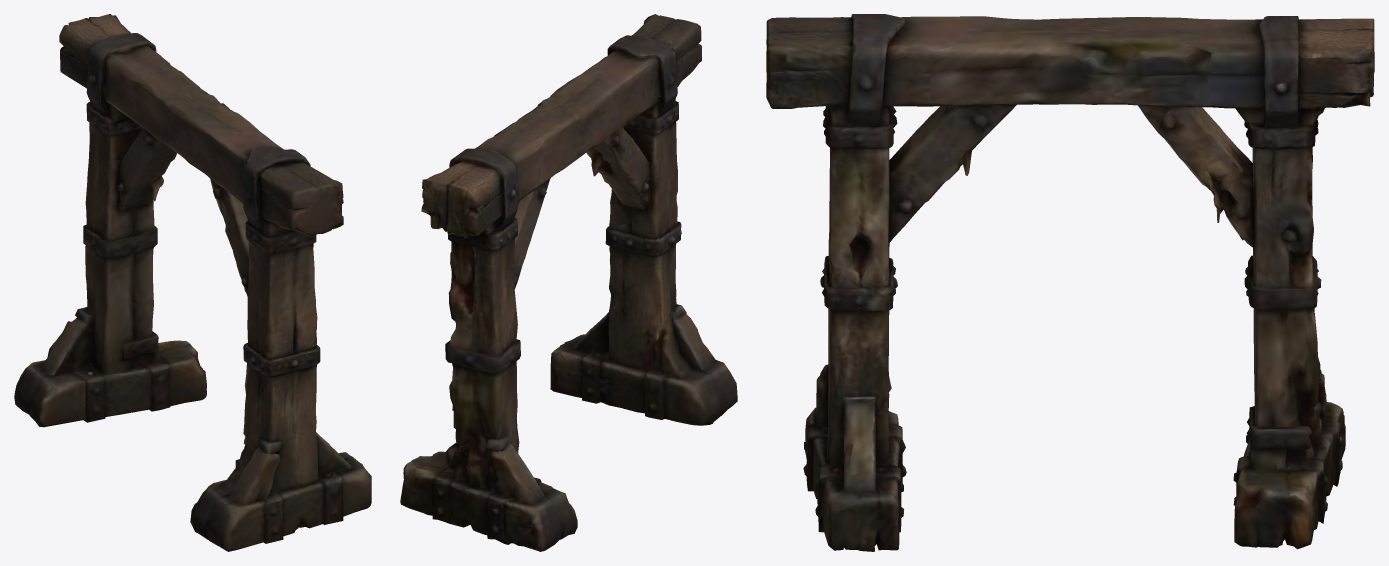
File: wooden-support-brace.glb
The picture shows the model from 3 angles, left to right: view 1: azimuth 30°, elevation 25°; view 2: azimuth 150°, elevation 25°; view 3: azimuth 270°, elevation 25°; orthographic projection. The views are drawn at different scales.
Visible parts, largest first — view 1: tripo_node_02645ace-dc50-4175-a230-d8017a02f9df; view 2: tripo_node_02645ace-dc50-4175-a230-d8017a02f9df; view 3: tripo_node_02645ace-dc50-4175-a230-d8017a02f9df.
Boxes of the visible parts, x1,y1,x2,y2 form: tripo_node_02645ace-dc50-4175-a230-d8017a02f9df: (14, 14, 371, 551); tripo_node_02645ace-dc50-4175-a230-d8017a02f9df: (400, 14, 737, 551); tripo_node_02645ace-dc50-4175-a230-d8017a02f9df: (766, 14, 1374, 551).
Bounding box in the file's own units: 0.42 × 0.8682 × 1.
1 material, 1 textured.
